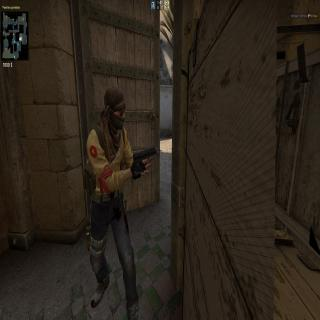T-Head: (102, 84, 127, 137)
